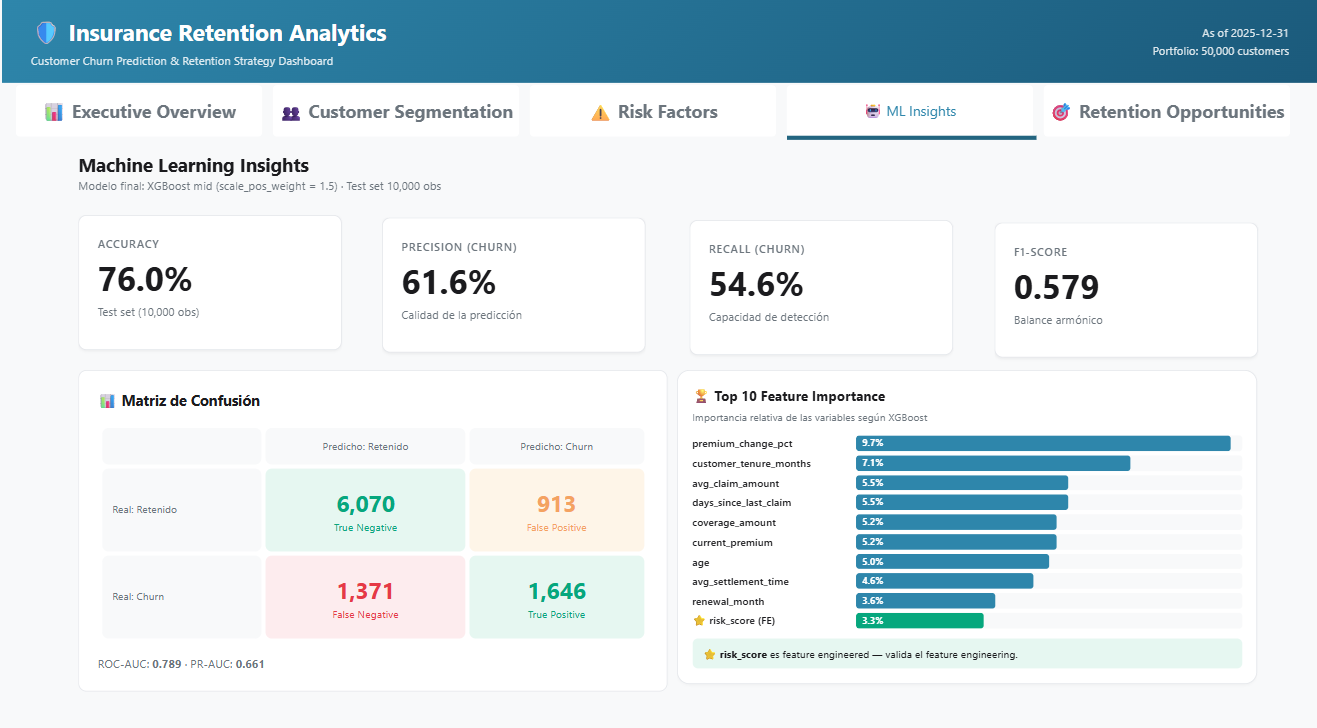

This screenshot's page, from the dashboard's own definition file:
{"tool":"powerbi","page":{"name":"🤖 ML Insights","canvas":[1280,720],"ordinal":3},"visuals":[{"type":"htmlContent443BE3AD55E043BF878BED274D3A6855","fields":{"content":["_Measures.HTML_PageHeader"]},"box":[0,10,1280,100],"z":0},{"type":"pageNavigator","box":[17.8,97,1233.5,50.4],"z":1000},{"type":"shape","box":[763,125,241,44],"z":2000},{"type":"htmlContent443BE3AD55E043BF878BED274D3A6855","fields":{"content":["_Measures.HTML_ML_Accuracy"]},"box":[74,217,264,160],"z":3000},{"type":"htmlContent443BE3AD55E043BF878BED274D3A6855","fields":{"content":["_Measures.HTML_ML_Precision"]},"box":[367,220,264,160],"z":4000},{"type":"htmlContent443BE3AD55E043BF878BED274D3A6855","fields":{"content":["_Measures.HTML_ML_Recall"]},"box":[663,222,264,160],"z":5000},{"type":"htmlContent443BE3AD55E043BF878BED274D3A6855","fields":{"content":["_Measures.HTML_ML_F1"]},"box":[958,224,264,160],"z":6000},{"type":"htmlContent443BE3AD55E043BF878BED274D3A6855","fields":{"content":["_Measures.// Confusion Matrix (todo en una sola medida HTML — render como tabla)HTML_ConfusionMatrix"]},"box":[73,367,579,325],"z":7000},{"type":"htmlContent443BE3AD55E043BF878BED274D3A6855","fields":{"content":["_Measures.HTML_FeatureImportance"]},"box":[652,367,570,325],"z":8000},{"type":"htmlContent443BE3AD55E043BF878BED274D3A6855","fields":{"content":["_Measures.HTML_Title_MLInsights"]},"box":[74.1,154.2,622.7,160.1],"z":8001}]}

Visuals, with their boxes in screenshot pixels (x1, y1, x2, y2), scaled from the page's 1280x720 canvas onto the 1317x728 screenshot:
htmlContent443BE3AD55E043BF878BED274D3A6855 - _Measures.HTML_PageHeader: [left=0, top=10, right=1316, bottom=111]
pageNavigator: [left=18, top=98, right=1287, bottom=149]
shape: [left=785, top=126, right=1033, bottom=171]
htmlContent443BE3AD55E043BF878BED274D3A6855 - _Measures.HTML_ML_Accuracy: [left=76, top=219, right=348, bottom=381]
htmlContent443BE3AD55E043BF878BED274D3A6855 - _Measures.HTML_ML_Precision: [left=378, top=222, right=649, bottom=384]
htmlContent443BE3AD55E043BF878BED274D3A6855 - _Measures.HTML_ML_Recall: [left=682, top=224, right=954, bottom=386]
htmlContent443BE3AD55E043BF878BED274D3A6855 - _Measures.HTML_ML_F1: [left=986, top=226, right=1257, bottom=388]
htmlContent443BE3AD55E043BF878BED274D3A6855 - _Measures.// Confusion Matrix (todo en una sola medida HTML — render como tabla)HTML_ConfusionMatrix: [left=75, top=371, right=671, bottom=700]
htmlContent443BE3AD55E043BF878BED274D3A6855 - _Measures.HTML_FeatureImportance: [left=671, top=371, right=1257, bottom=700]
htmlContent443BE3AD55E043BF878BED274D3A6855 - _Measures.HTML_Title_MLInsights: [left=76, top=156, right=717, bottom=318]
